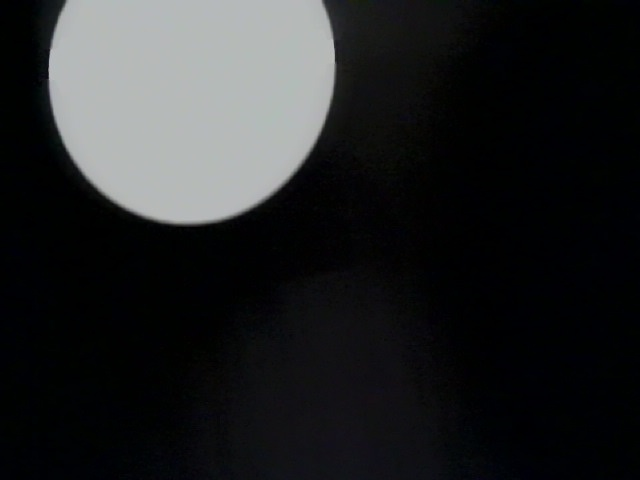KHSLJ: (113, 277, 629, 480)
